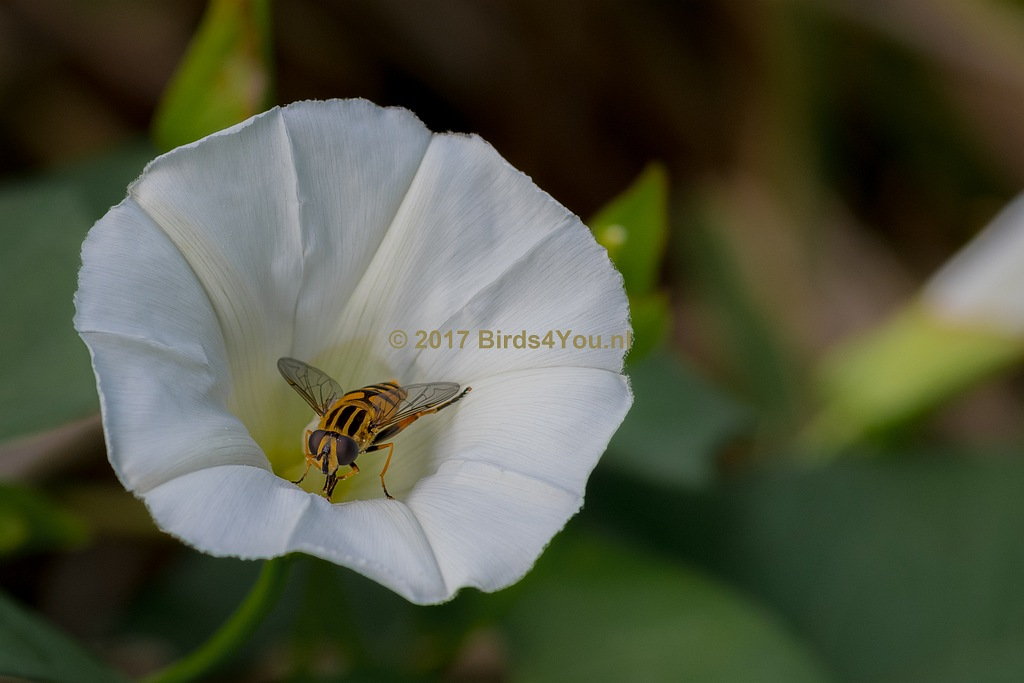haagwinde: (60, 77, 659, 626)
